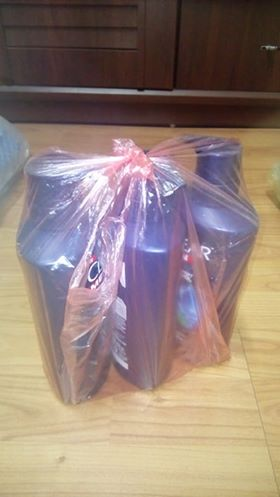plastic bag: (15, 135, 261, 406)
